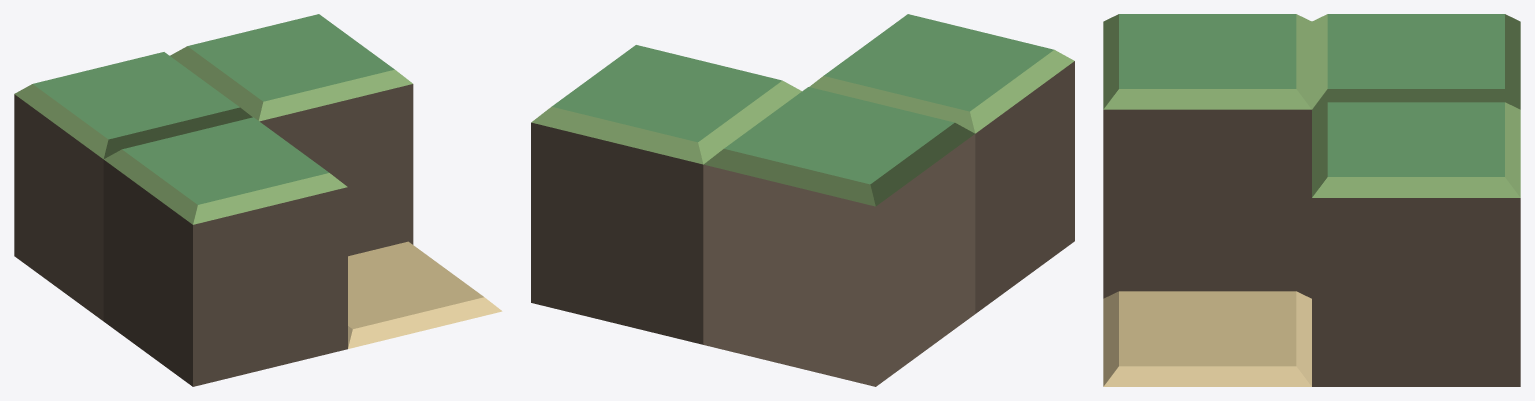
The model's file is Cliff_Int_Corner_Tile.obj.
3 views of the same model, side by side, from view 1: azimuth 30°, elevation 25°; view 2: azimuth 150°, elevation 25°; view 3: azimuth 270°, elevation 25° (orthographic). The views are drawn at different scales.
Visible parts, largest first — view 1: Cliff_Int_Corner_Tile; view 2: Cliff_Int_Corner_Tile; view 3: Cliff_Int_Corner_Tile.
Boxes of the visible parts, left/top/right/bottom form: Cliff_Int_Corner_Tile: left=14, top=14, right=502, bottom=386; Cliff_Int_Corner_Tile: left=531, top=14, right=1074, bottom=386; Cliff_Int_Corner_Tile: left=1103, top=14, right=1520, bottom=386.
Size of the model in its own units: 2 by 1.08 by 2.
